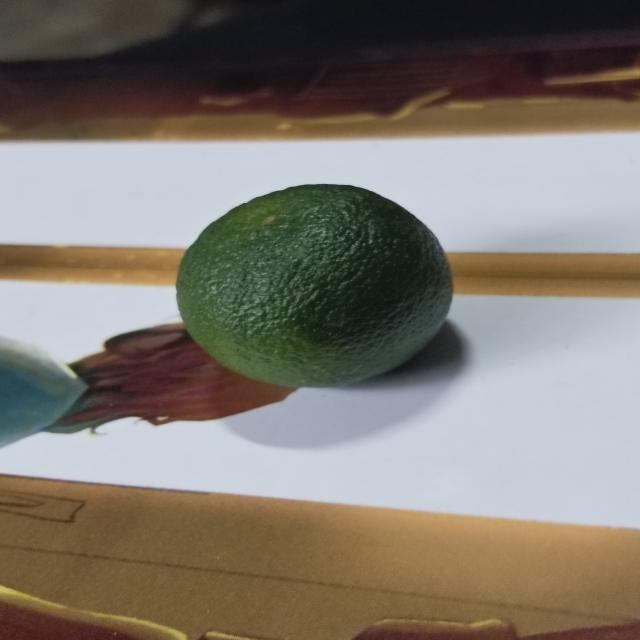heathy: (172, 183, 460, 394)
